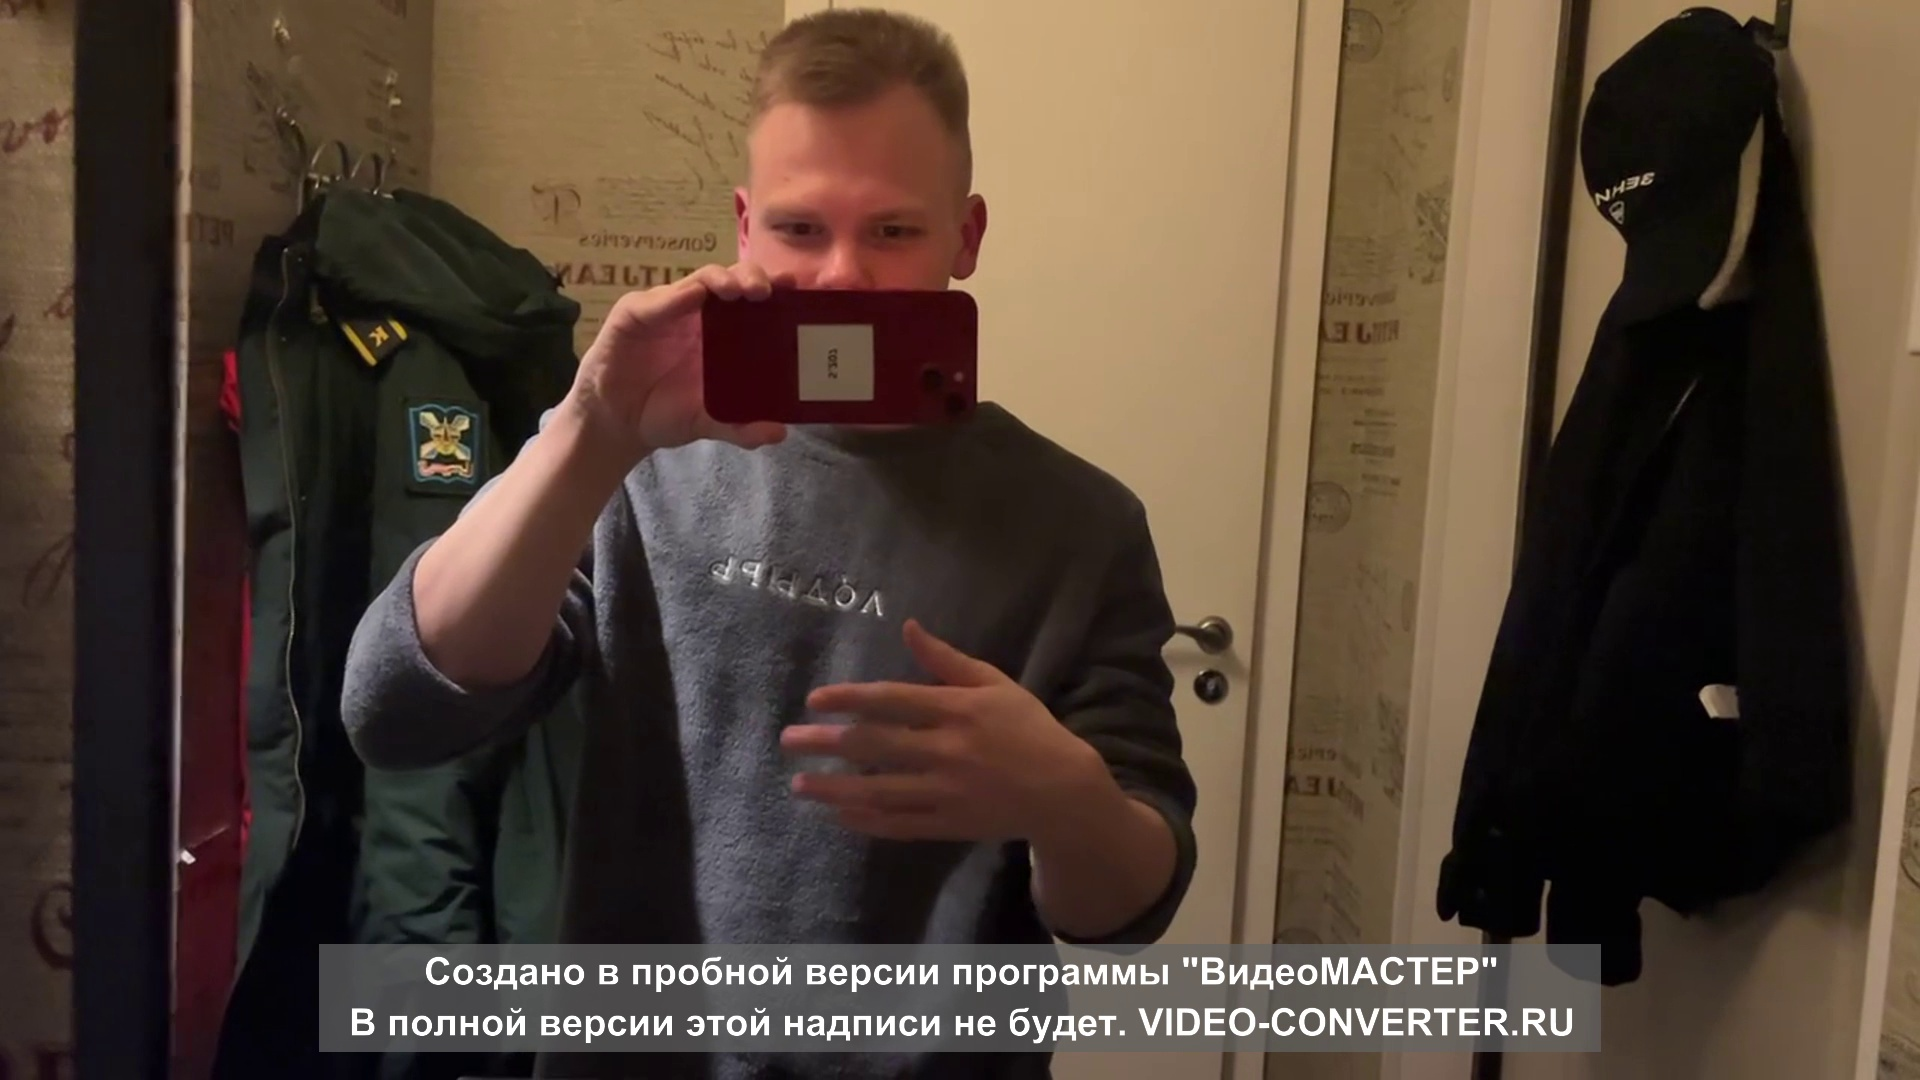Кисть: (779, 617, 1067, 844)
